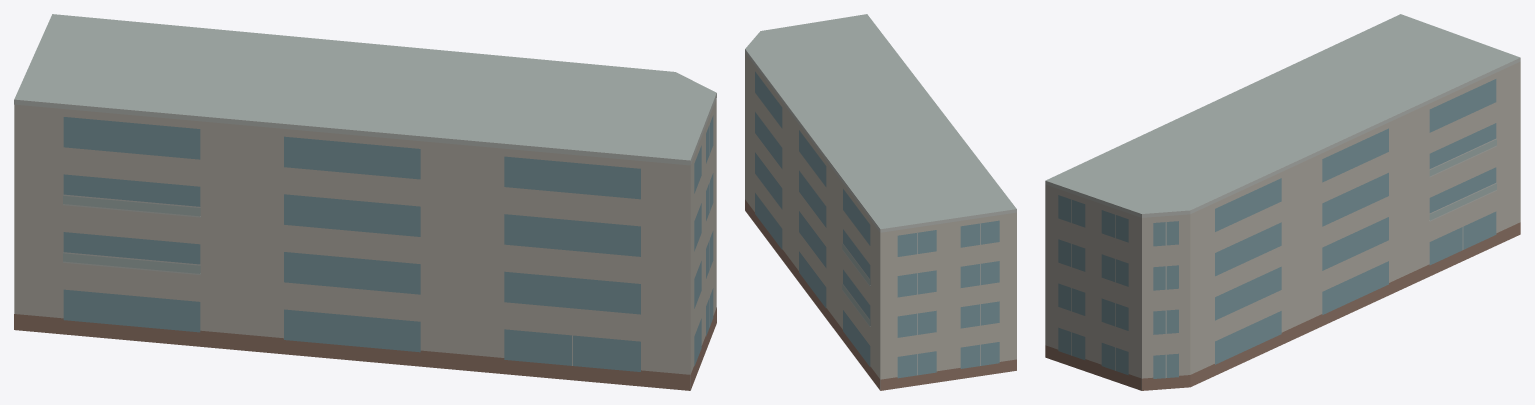
File: survey-upis-32524466.glb
The picture shows the model from 3 angles, left to right: view 1: azimuth 30°, elevation 25°; view 2: azimuth 150°, elevation 25°; view 3: azimuth 270°, elevation 25°; orthographic projection. The views are drawn at different scales.
Parts seen in each view (by area): view 1: survey-upis-32524466.tmp; view 2: survey-upis-32524466.tmp; view 3: survey-upis-32524466.tmp.
Part boxes in pixels (<box>): survey-upis-32524466.tmp: <box>14,14,716,390</box>; survey-upis-32524466.tmp: <box>745,14,1016,390</box>; survey-upis-32524466.tmp: <box>1045,14,1520,390</box>.
Size of the model in its own units: 27.42 by 11.3 by 27.54.
